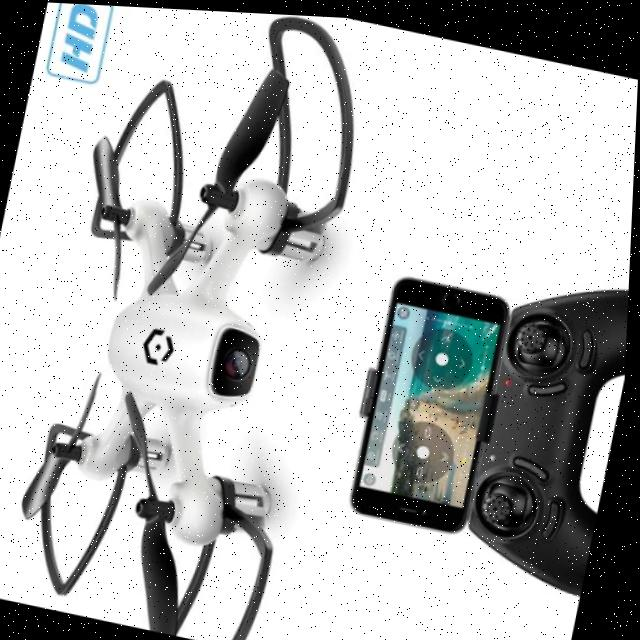drones: (0, 0, 384, 640)
